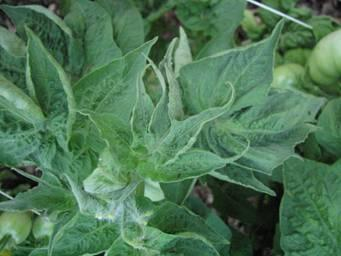Tomato leaf mosaic virus: (178, 22, 290, 129), (69, 39, 161, 153), (155, 86, 235, 169), (144, 143, 248, 185)
